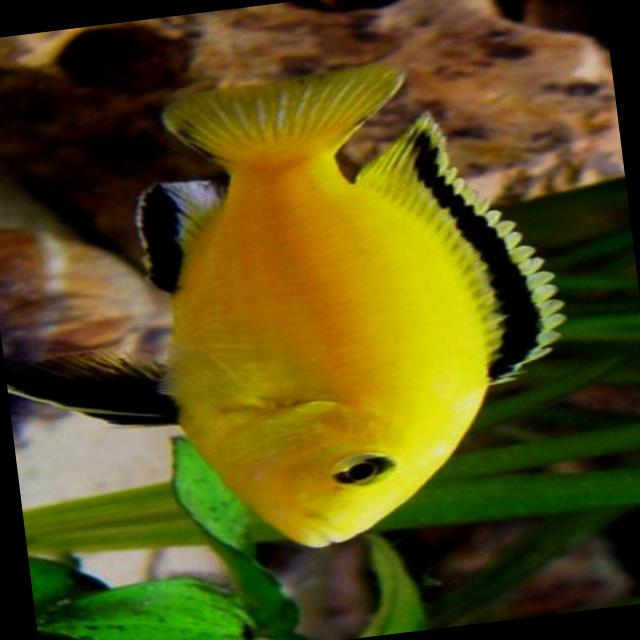YellowCichlid: (116, 46, 580, 568)
